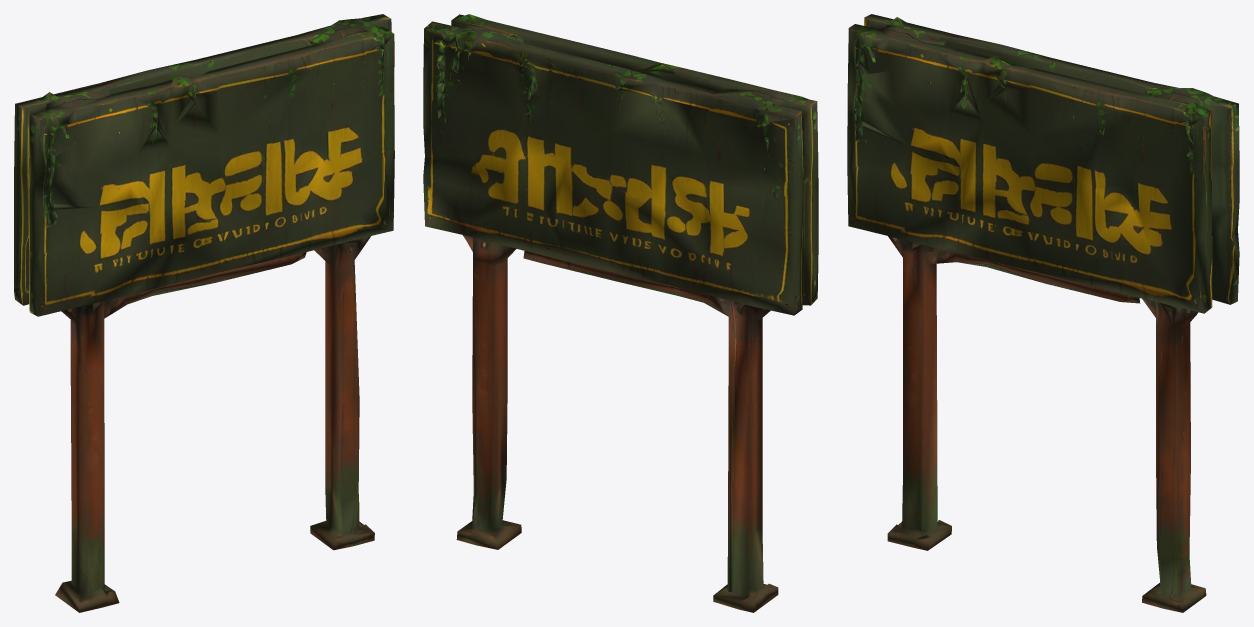
File: cnvs-billboard-low.glb
3 renders of one model, left to right at view 1: azimuth 30°, elevation 25°; view 2: azimuth 150°, elevation 25°; view 3: azimuth 330°, elevation 25°, orthographic.
Parts seen in each view (by area): view 1: tripo_node_a0fb54bb-7638-4644-9dcb-c65f235c2db6; view 2: tripo_node_a0fb54bb-7638-4644-9dcb-c65f235c2db6; view 3: tripo_node_a0fb54bb-7638-4644-9dcb-c65f235c2db6.
Boxes of the visible parts, box(x1,y1,x2,y2) form: tripo_node_a0fb54bb-7638-4644-9dcb-c65f235c2db6: box(14, 14, 394, 612); tripo_node_a0fb54bb-7638-4644-9dcb-c65f235c2db6: box(423, 14, 818, 612); tripo_node_a0fb54bb-7638-4644-9dcb-c65f235c2db6: box(847, 14, 1239, 612).
Bounding box in the file's own units: 0.7683 × 0.9999 × 0.1036.
Materials: 1 (1 with a texture image).
